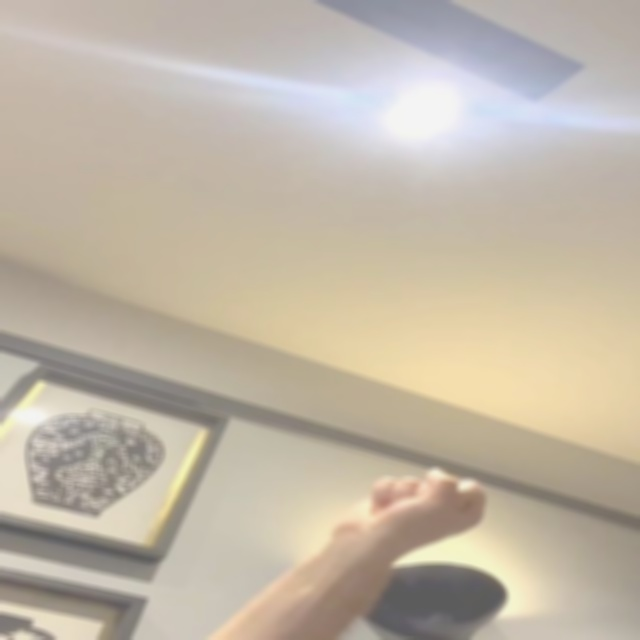Rock: (328, 469, 489, 549)
